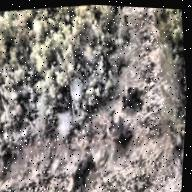boar: (61, 138, 102, 192), (116, 77, 144, 112)
